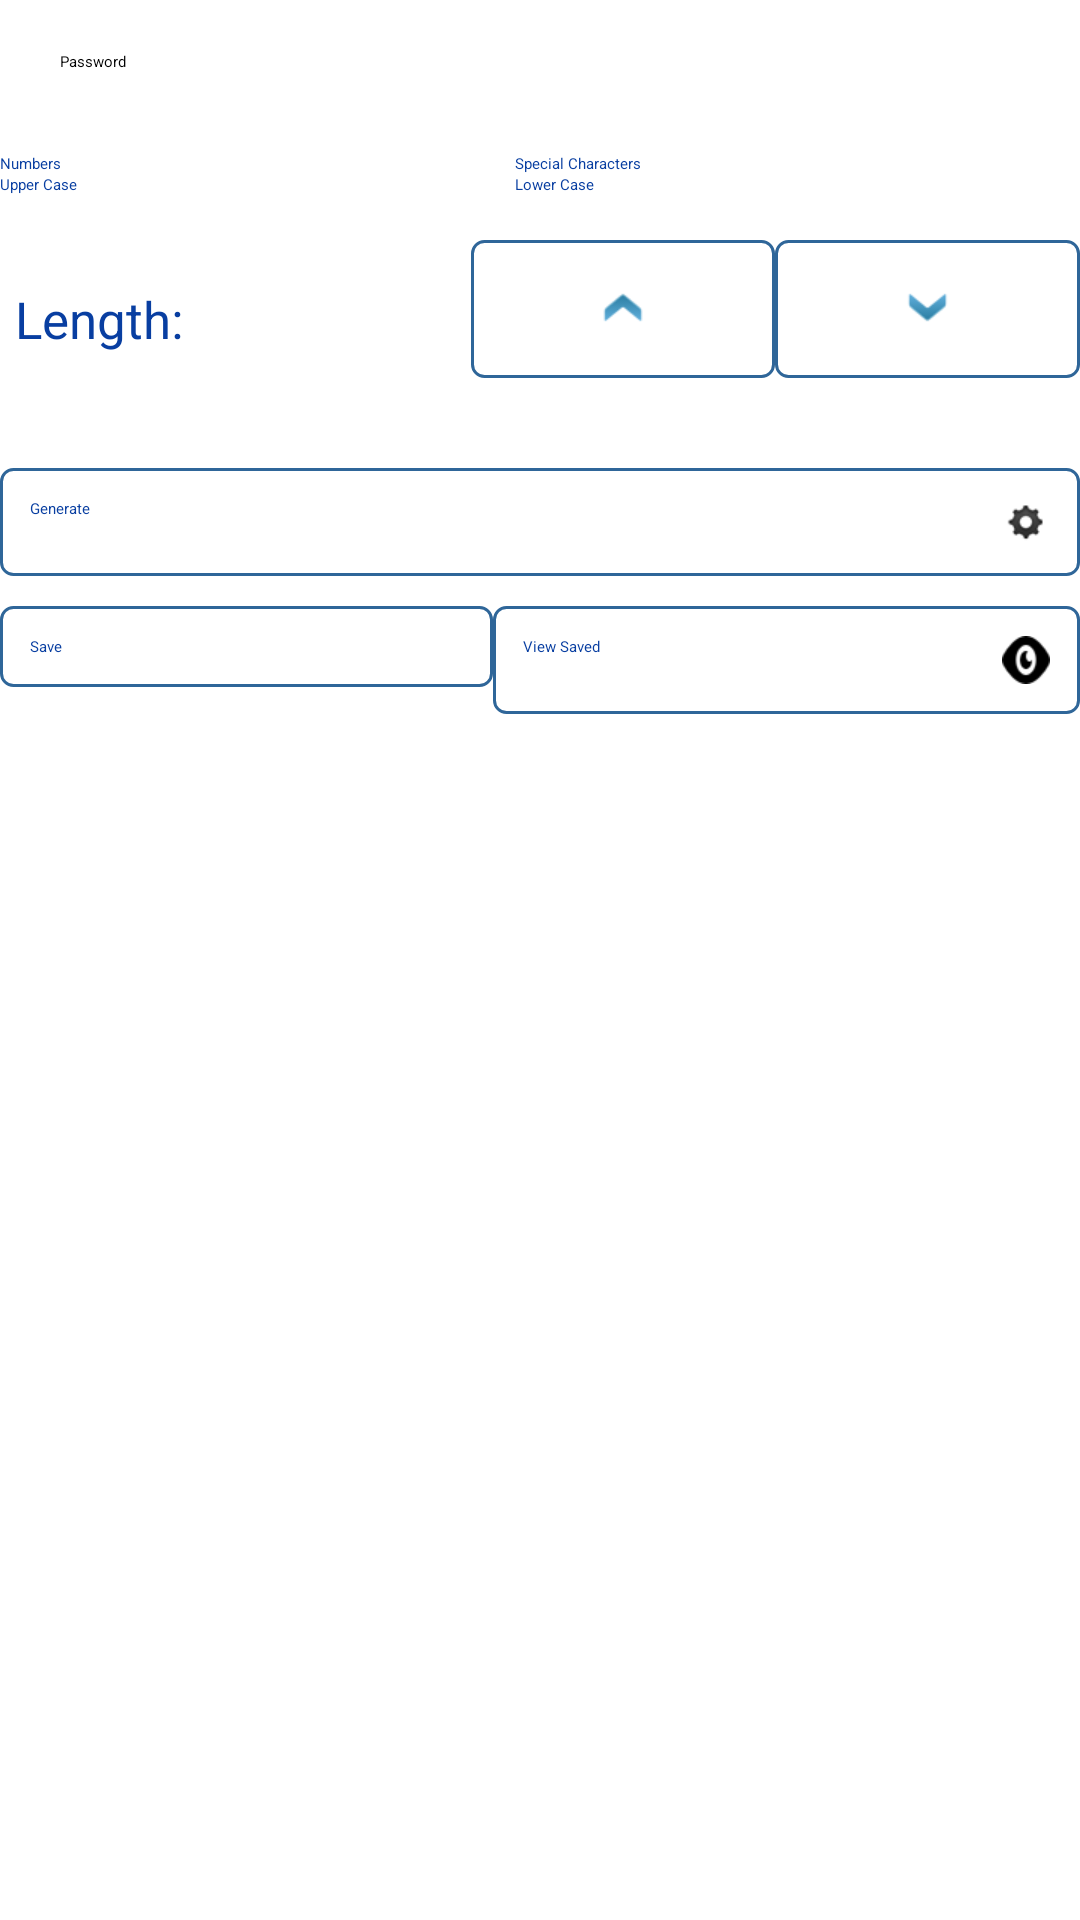

Screen size 1080px x 1920px. Icon name, then its center in pixels as [x,y]:
down: [927,309]
